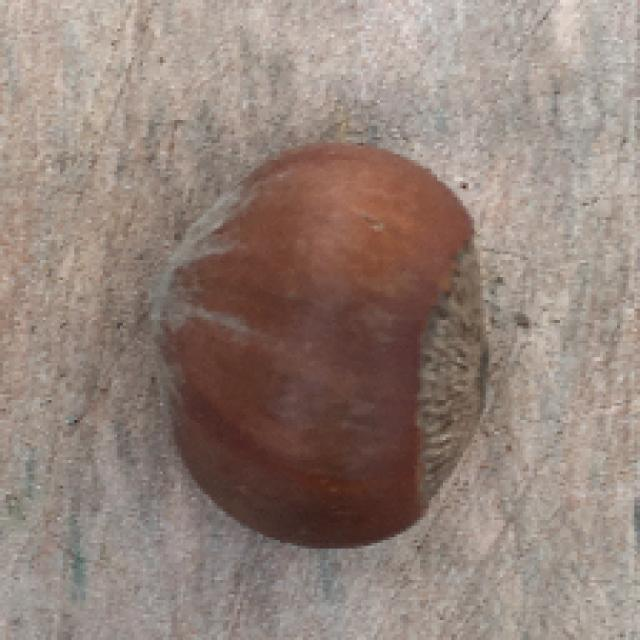DamagedHazelnut: (147, 148, 490, 553)
